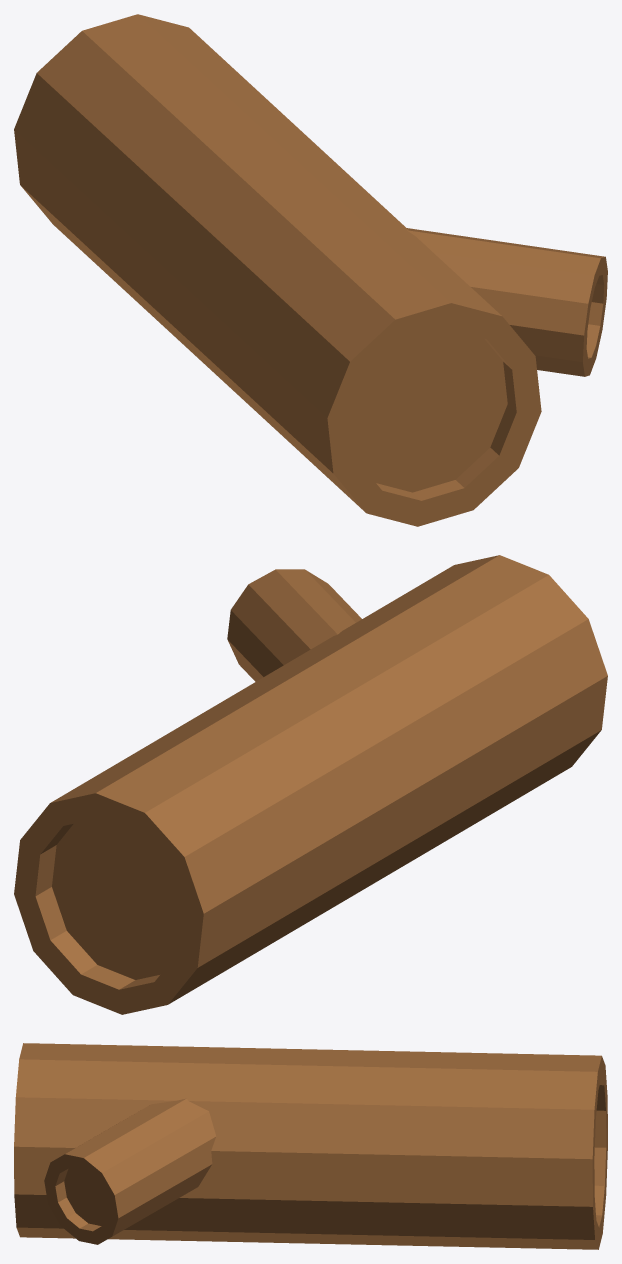
The model's file is Log.blend.glb.
3 views of the same model, one above another, from view 1: azimuth 30°, elevation 25°; view 2: azimuth 150°, elevation 25°; view 3: azimuth 270°, elevation 25° (orthographic). The views are drawn at different scales.
Parts seen in each view (by area): view 1: Cylinder.001; view 2: Cylinder.001; view 3: Cylinder.001.
Part boxes in pixels (x1,y1,x2,y2): Cylinder.001: (14, 14, 607, 526); Cylinder.001: (14, 555, 607, 1014); Cylinder.001: (14, 1043, 607, 1249).
Size of what is drawn, in the model's own units: 2.21 by 1.43 by 4.27.
